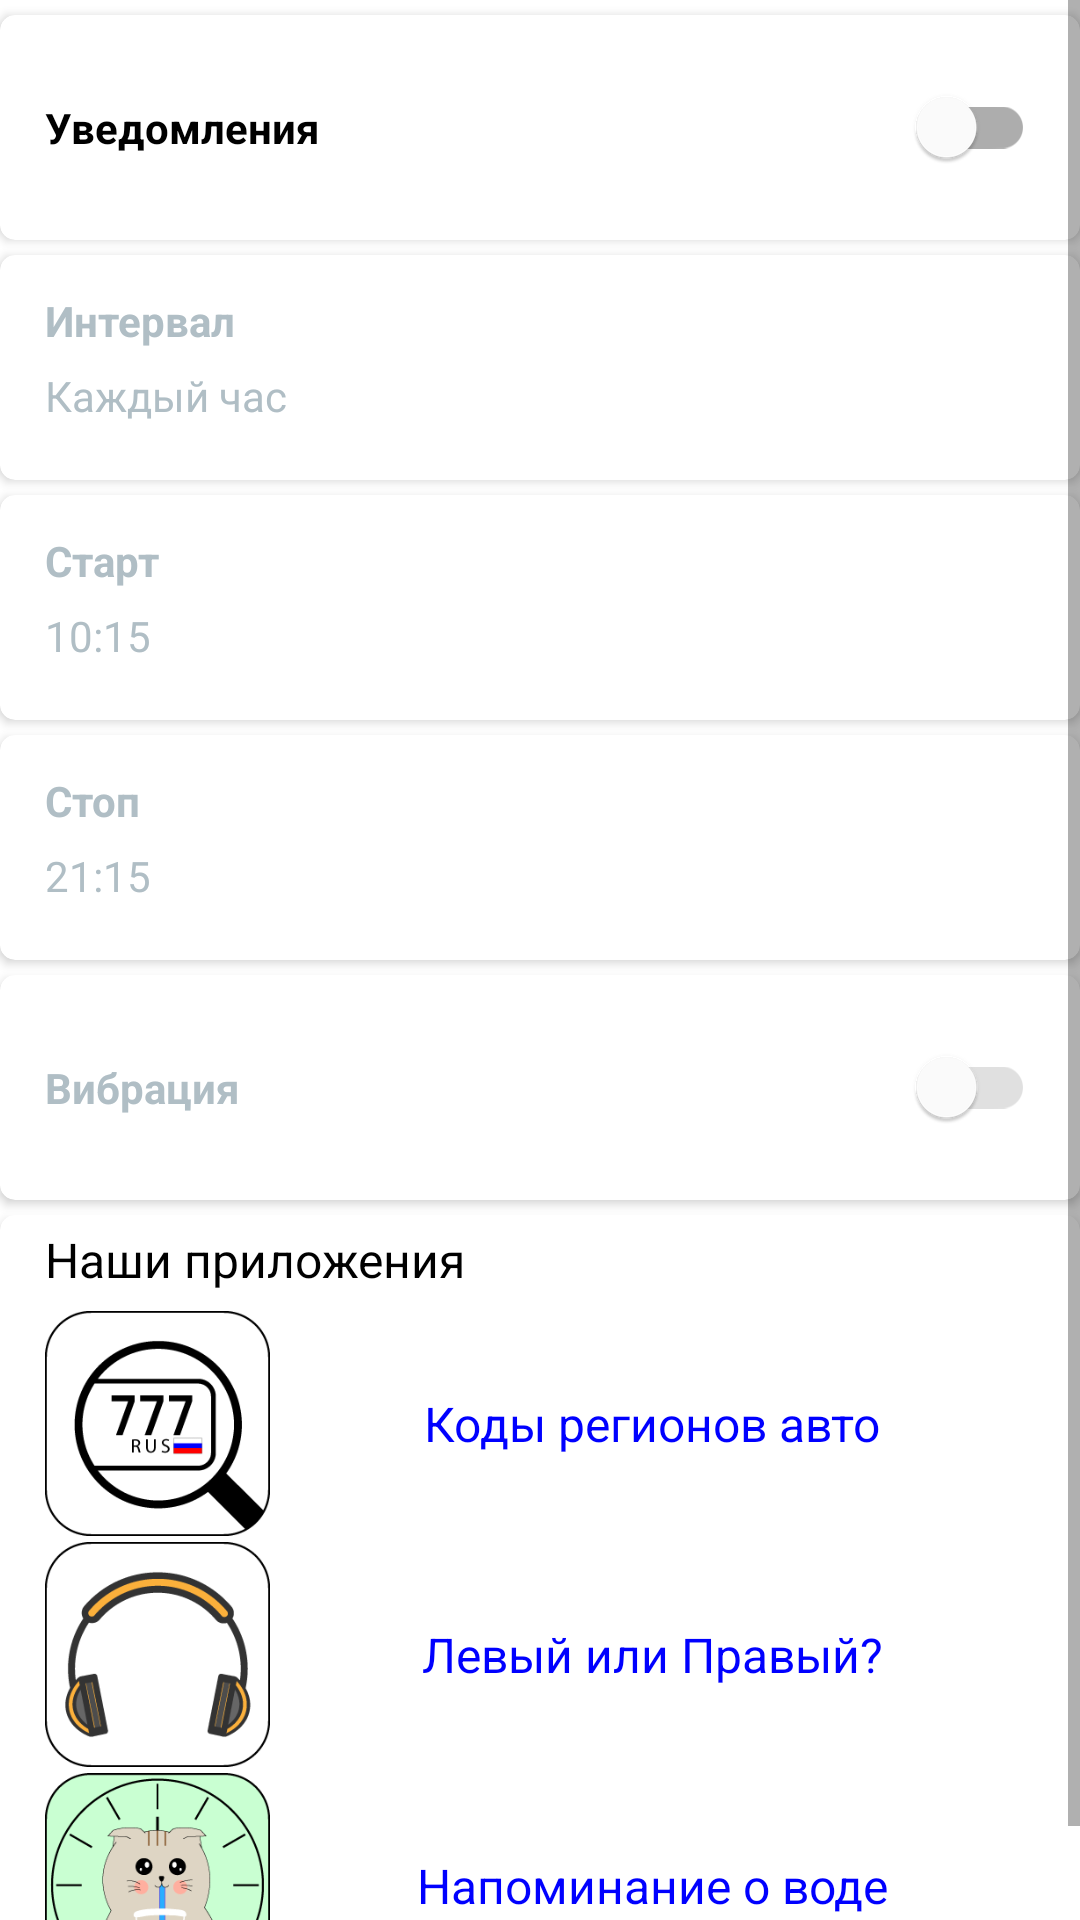

Icon bounding boxes for this 1080w x 1920h phone screenshot, format (left=x1, top=y1, right=x2, bottom=y2):
auto: (left=45, top=1311, right=270, bottom=1536)
headphones: (left=45, top=1542, right=270, bottom=1767)
